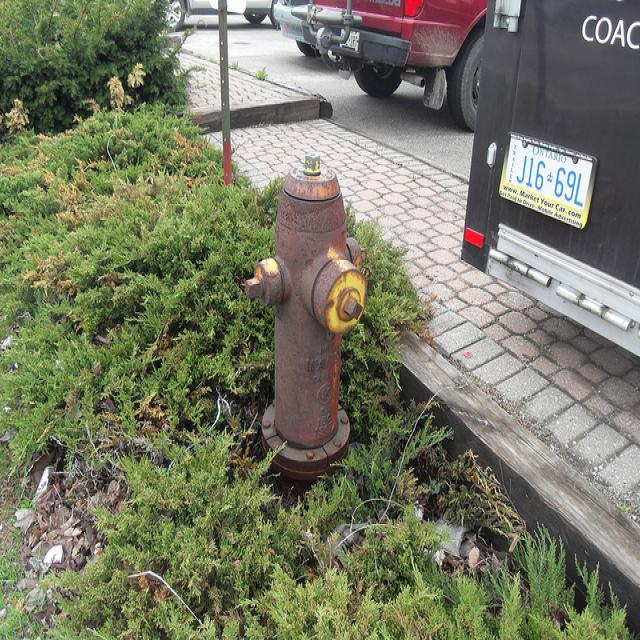Vehicle: (456, 0, 640, 362), (457, 0, 640, 360), (274, 0, 488, 124), (151, 1, 290, 31), (274, 5, 338, 70)
